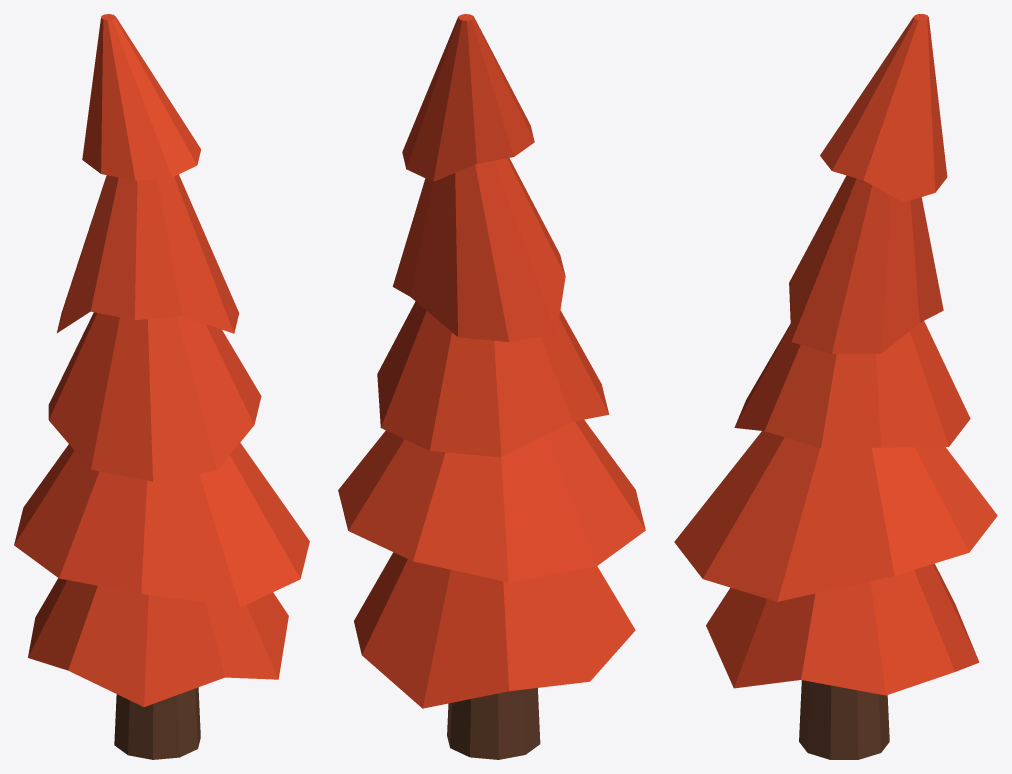
3 renders of one model, left to right at view 1: azimuth 30°, elevation 25°; view 2: azimuth 150°, elevation 25°; view 3: azimuth 270°, elevation 25°, orthographic. The views are drawn at different scales.
Parts seen in each view (by area): view 1: t6-orange; view 2: t6-orange; view 3: t6-orange.
Part boxes in pixels (box(x1,y1,x2,y2)): t6-orange: box(14, 14, 309, 759); t6-orange: box(338, 14, 645, 759); t6-orange: box(674, 14, 997, 759).
Bounding box in the file's own units: 303 × 847 × 346.
